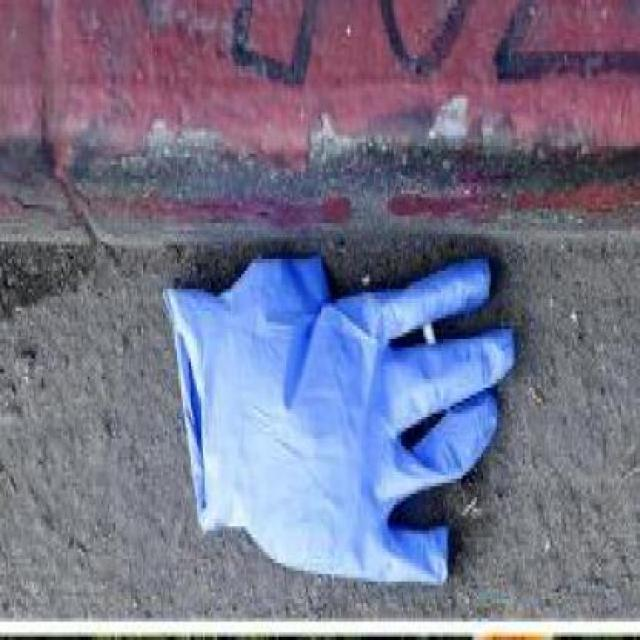gloved_hand: (163, 224, 520, 593)
